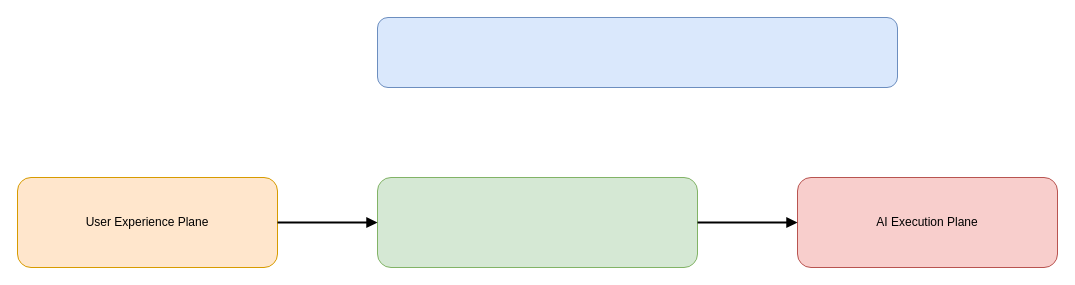
This 1075x285 diagram has some shape labels left out. The shapes that lost their labels are listed below. From the top down, each one's centre as x and y in pixels, then its label:
At point (637, 52): "Enterprise Reference Architecture".
At point (537, 222): "AI Platform Control Plane".
